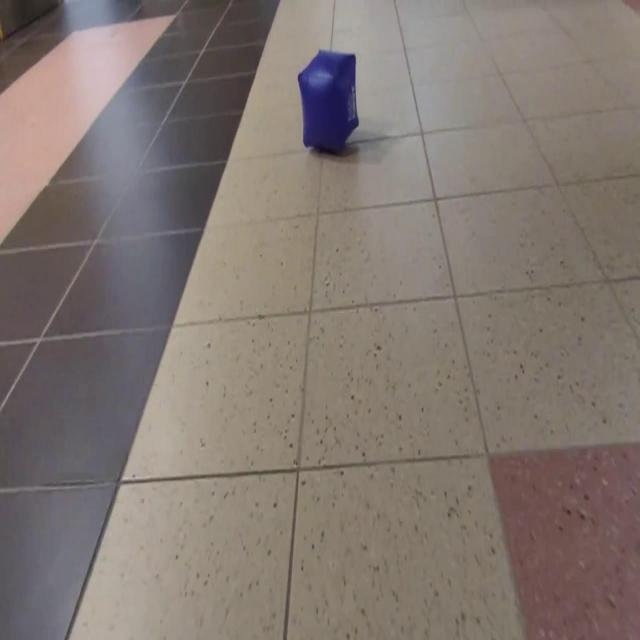frc_cube: (296, 49, 360, 154)
